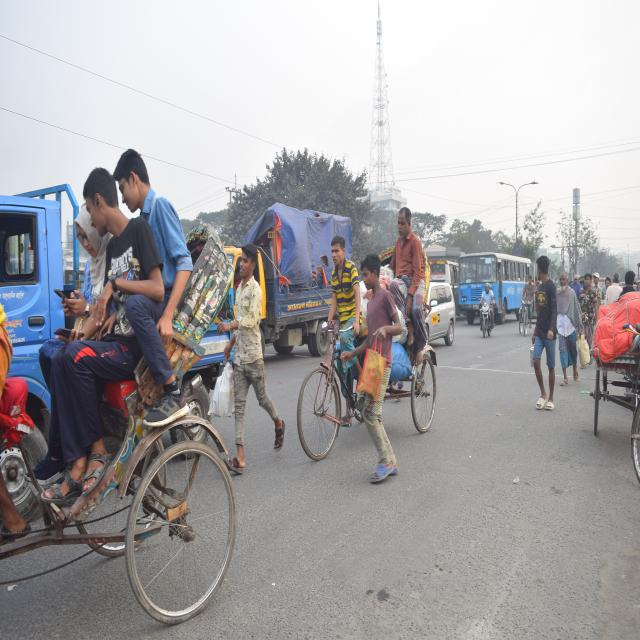bus: (458, 254, 538, 318)
microbus: (426, 278, 458, 346)
motorbike: (478, 278, 499, 342)
pickup-van: (229, 219, 380, 350), (5, 191, 76, 386)
